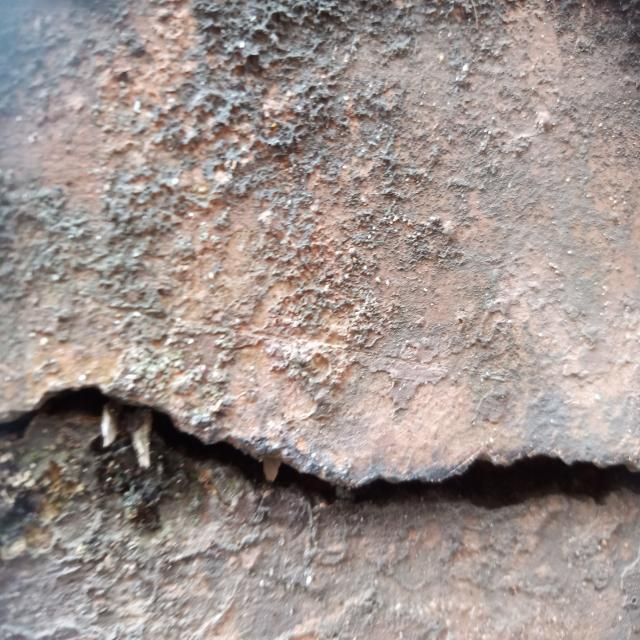horizontal crack: (0, 388, 639, 508)
